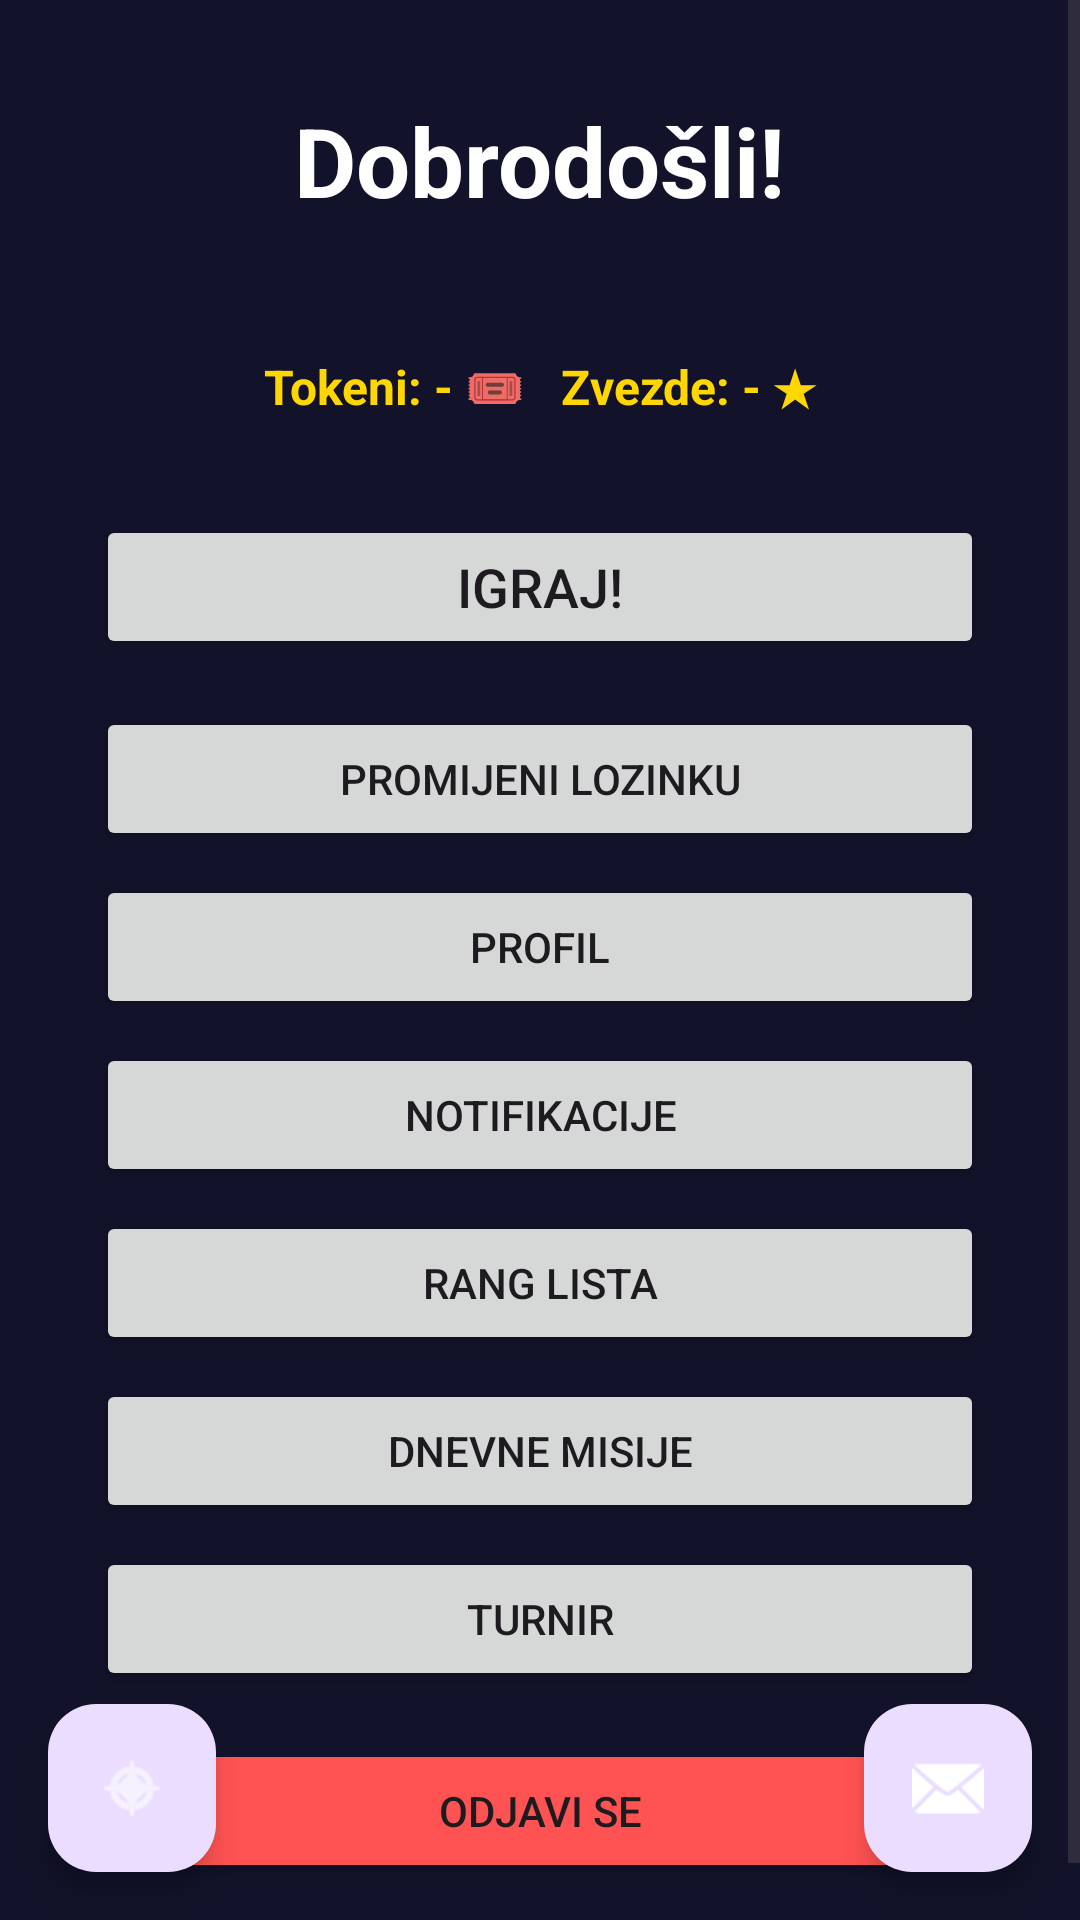

Icon click points for this 1080*1920 phone screenshot, format [x,y]:
Chat: [948,1788]
Izazov: [132,1788]
